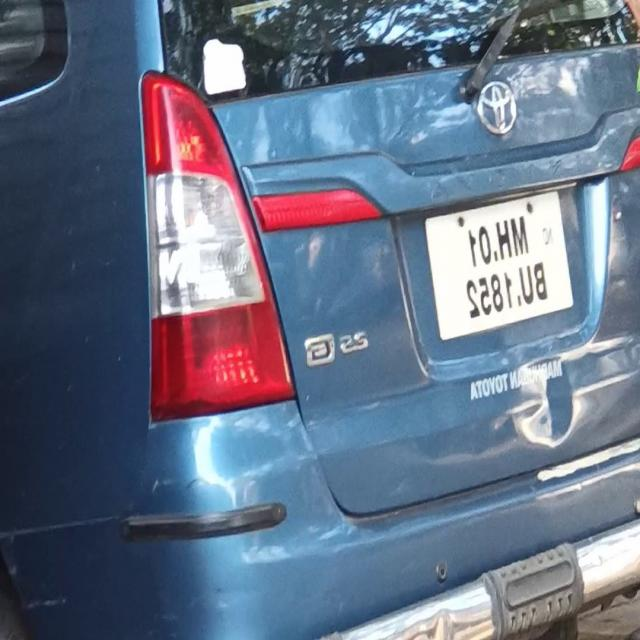license_plate: (419, 183, 577, 349)
